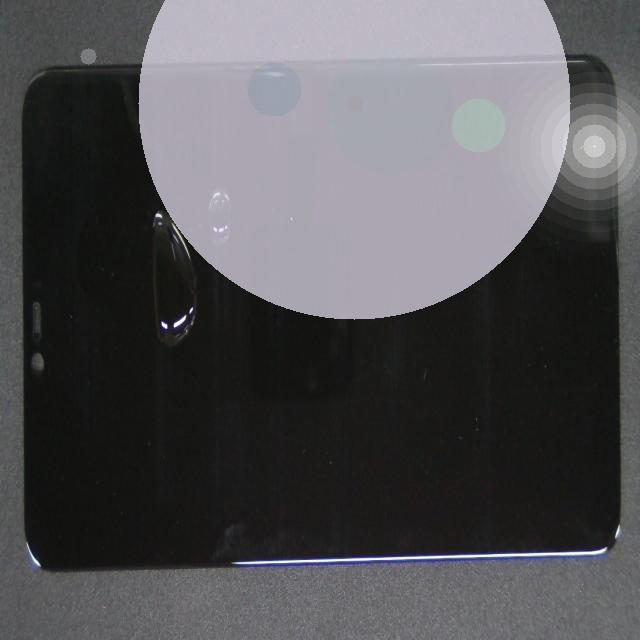oil: (105, 85, 315, 342), (116, 130, 264, 344)
